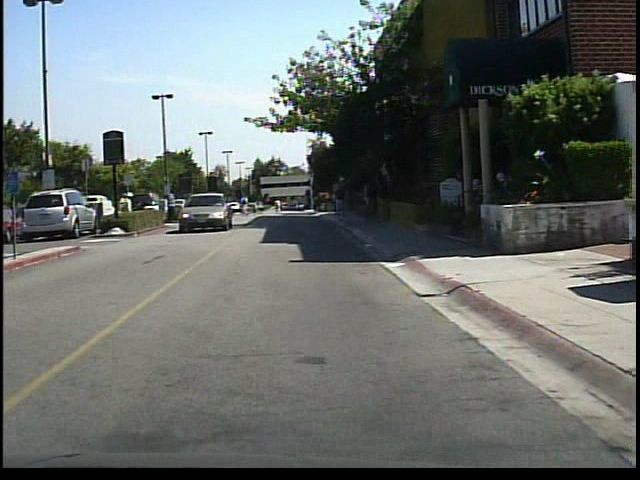person: (162, 185, 180, 225), (117, 190, 132, 230), (124, 187, 138, 229), (239, 190, 253, 218), (341, 178, 342, 218)
